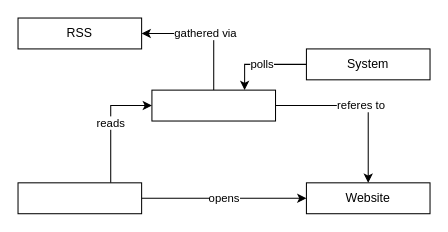
Some shapes in this 448 by 232 pixel diagram are drawn without their labels. Each missing label, with the box of its shape:
News: (151, 89, 276, 121)
User: (17, 182, 142, 214)
